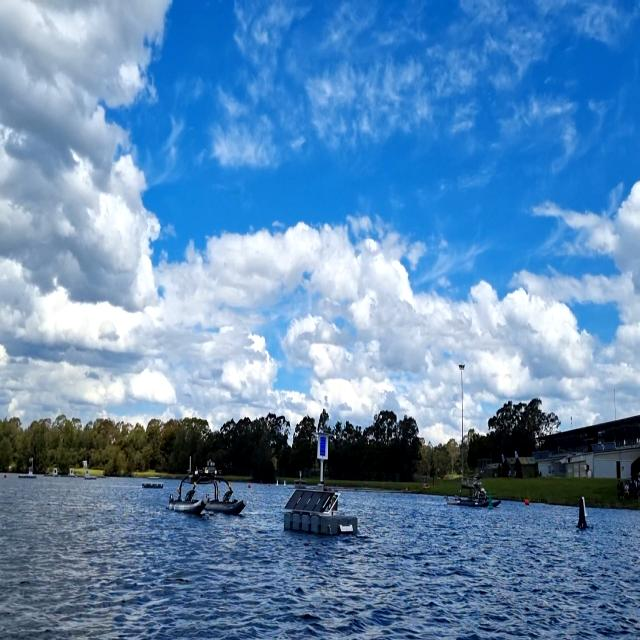led: (319, 436, 327, 458)
